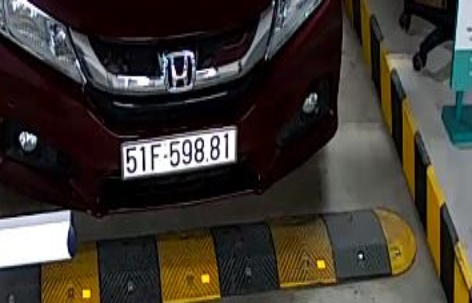plate: (117, 130, 239, 173)
